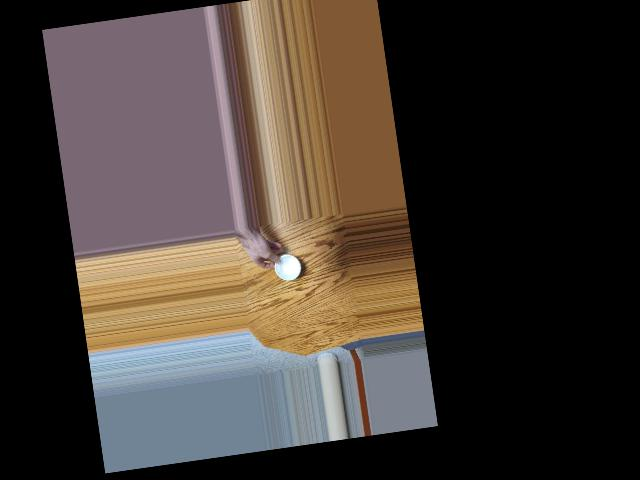cotage: (270, 250, 303, 282)
